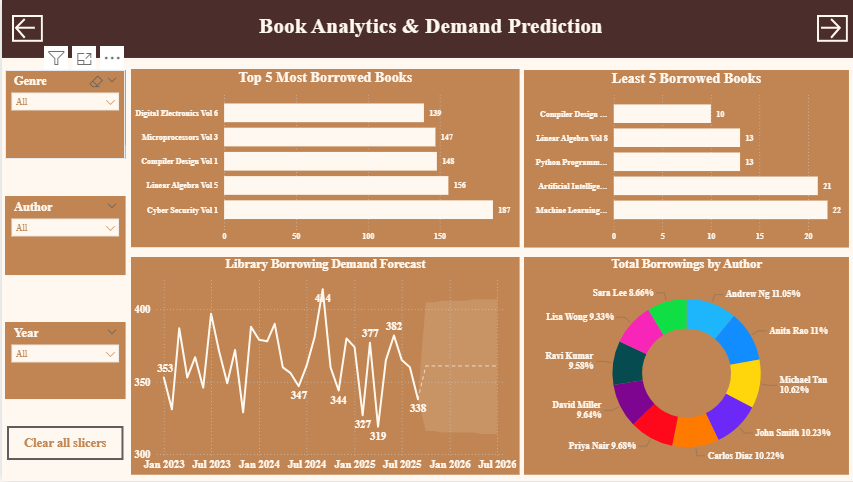

Layout of this report page (visuals, bound fields, positions):
{"tool":"powerbi","page":{"name":"Page 2","canvas":[1280,720],"ordinal":1},"visuals":[{"type":"textbox","box":[0,0,1280.2,87.8],"z":0},{"type":"clusteredBarChart","title":"Top 5 Most Borrowed Books","fields":{"Category":["Books.Title"],"Y":["Books.Total Borrowings"]},"box":[192,105.1,580.3,266.4],"z":1000},{"type":"clusteredBarChart","title":"Least 5 Borrowed Books","fields":{"Category":["Books.Title"],"Y":["Books.Total Borrowings"]},"box":[779,106.6,485.3,265],"z":2000},{"type":"donutChart","fields":{"Category":["Books.Author"],"Y":["Books.Total Borrowings"]},"box":[779,384.5,485.3,325.4],"z":3000},{"type":"lineChart","title":"Library Borrowing Demand Forecast","fields":{"Y":["Books.Total Borrowings"],"Category":["Transactions.Issue_Date.Variation.Date Hierarchy.Year","Transactions.Issue_Date.Variation.Date Hierarchy.Month"]},"box":[192,384.5,580.3,325.4],"z":4000},{"type":"slicer","fields":{"Values":["Books.Genre"]},"box":[4.6,106.2,180,112.3],"z":5000},{"type":"slicer","fields":{"Values":["Books.Author"]},"box":[4.6,293.8,180,118.5],"z":6000},{"type":"slicer","fields":{"Values":["Books.Year"]},"box":[4.6,481.5,180,115.4],"z":7000},{"type":"actionButton","box":[7.7,636.9,173.8,50.8],"z":8000},{"type":"actionButton","box":[1216.9,24.6,46.2,40],"z":9000},{"type":"slicer","fields":{"Values":["Books.Genre"]},"box":[4,106,180,132.3],"z":10000},{"type":"actionButton","box":[15,24.6,46.2,40],"z":11000}]}

Visuals, with their boxes in screenshot pixels (x1, y1, x2, y2), scaled from the page's 1280x720 canvas onto the 853x482 screenshot:
textbox: (0,0,852,59)
"Top 5 Most Borrowed Books" clusteredBarChart: (128,70,515,249)
"Least 5 Borrowed Books" clusteredBarChart: (519,71,843,249)
donutChart - Books.Author x Books.Total Borrowings: (519,257,843,475)
"Library Borrowing Demand Forecast" lineChart: (128,257,515,475)
slicer - Books.Genre: (3,71,123,146)
slicer - Books.Author: (3,197,123,276)
slicer - Books.Year: (3,322,123,400)
actionButton: (5,426,121,460)
actionButton: (811,16,842,43)
slicer - Books.Genre: (3,71,123,160)
actionButton: (10,16,41,43)
